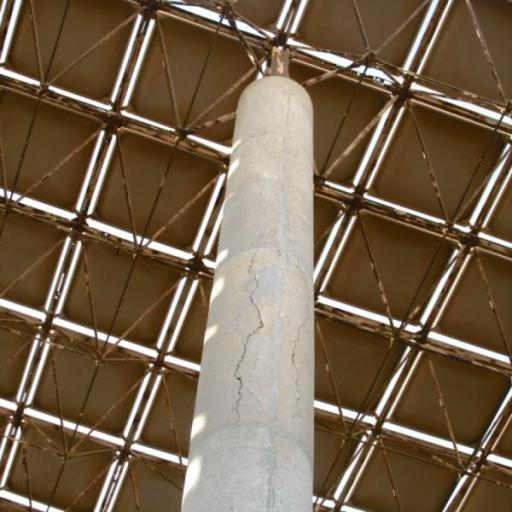spalling: (291, 276, 311, 366), (239, 329, 258, 364), (250, 293, 260, 329), (236, 378, 242, 422), (294, 366, 300, 406), (250, 267, 258, 289)
